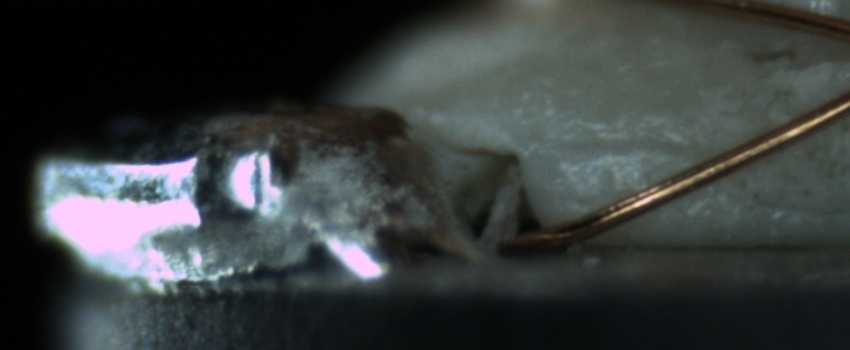DL: (557, 112, 709, 179)
